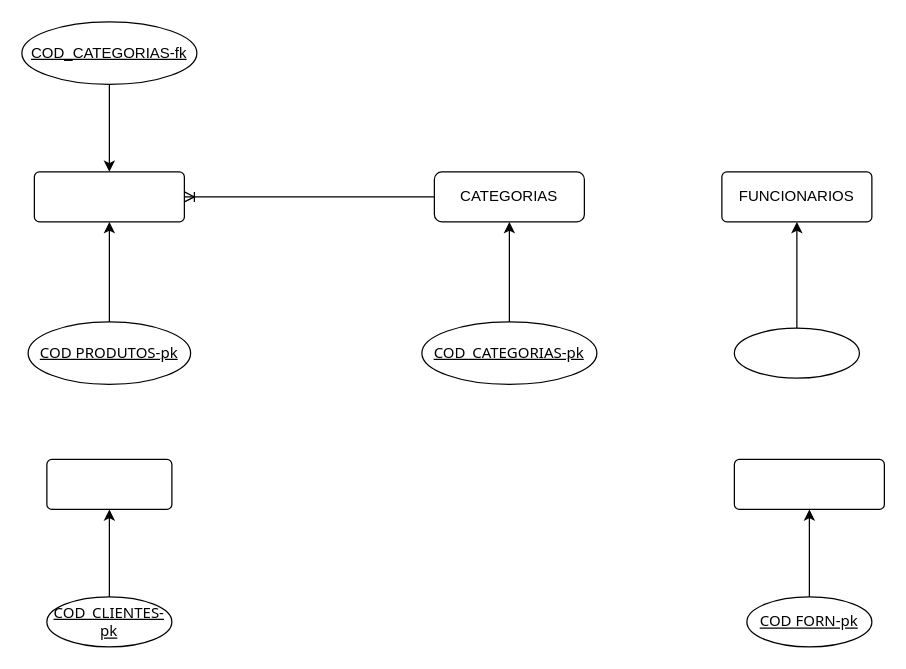
This 906x669 diagram has some shape labels left out. Each missing label, with the box of its shape:
CLIENTES: (46, 458, 172, 509)
COD_FUNC-pk: (733, 327, 859, 378)
FORNECEDORES: (733, 458, 884, 509)
PRODUTOS: (33, 171, 184, 222)
